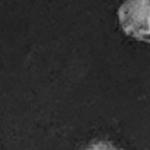colony: (111, 0, 150, 44), (75, 125, 141, 150)
